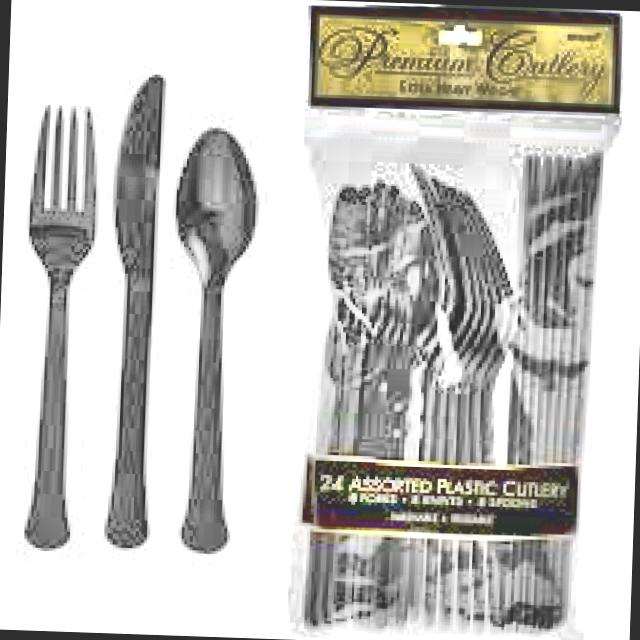plastic utensil: (177, 129, 256, 553), (25, 107, 94, 548), (105, 75, 159, 547)
